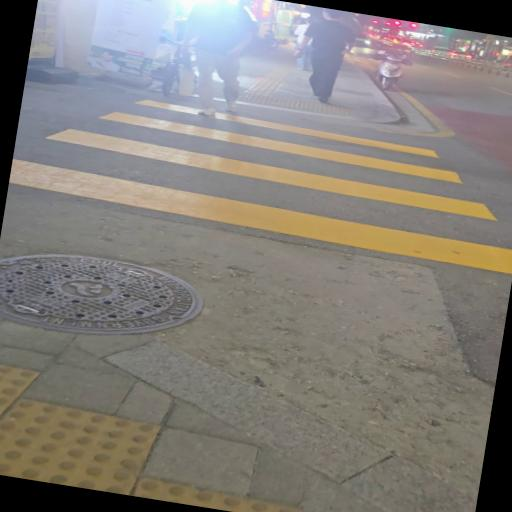yellow-crosswalk: (5, 68, 512, 285)
